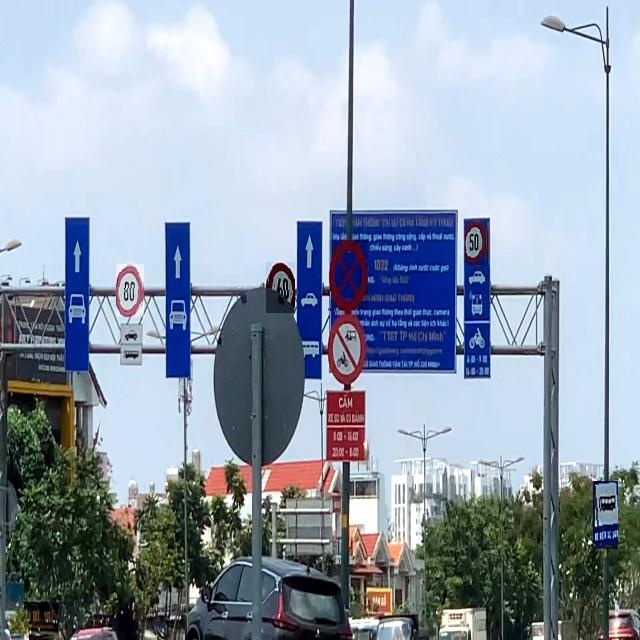bien_cam: (328, 240, 368, 311), (593, 482, 618, 550), (116, 264, 144, 317), (266, 262, 295, 313), (466, 222, 490, 265)
